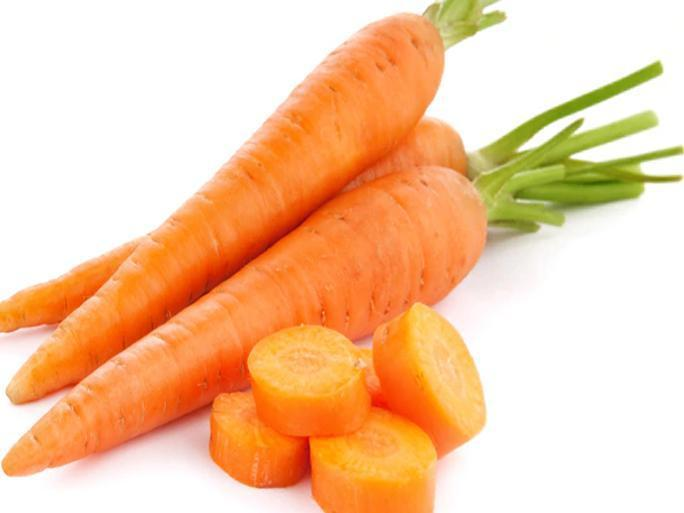carrot: (36, 5, 552, 503)
